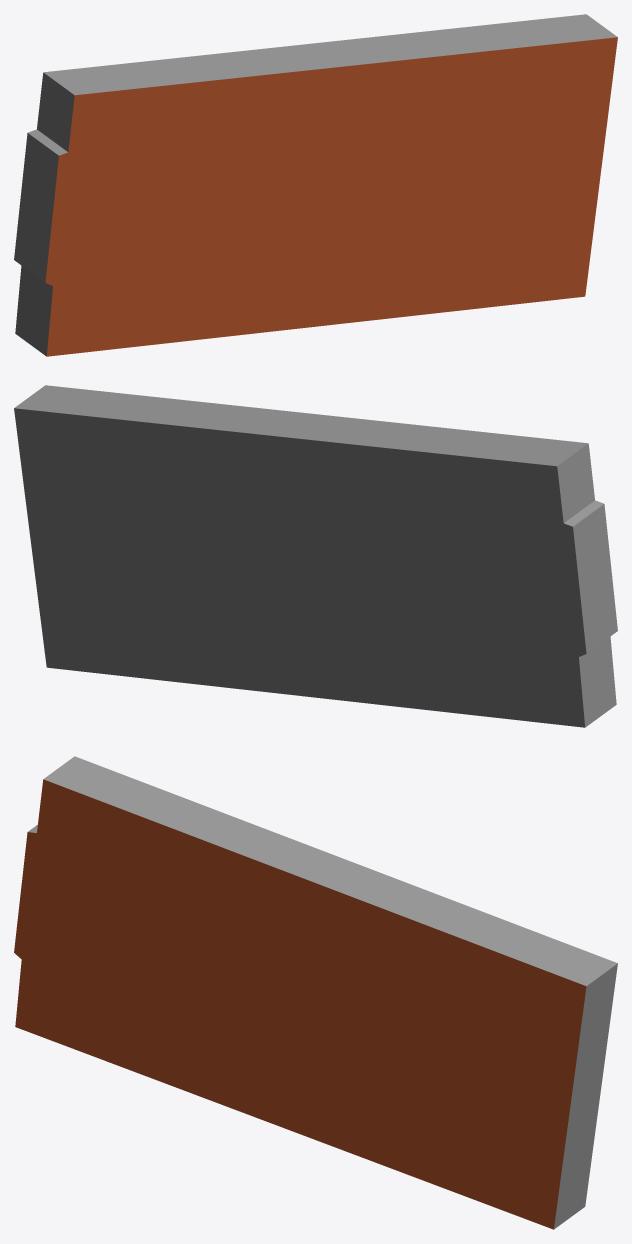
File: construction_3089_assumed_A_Casa_h6m.obj
3 renders of one model, top to bottom at view 1: azimuth 30°, elevation 25°; view 2: azimuth 150°, elevation 25°; view 3: azimuth 330°, elevation 25°, orthographic.
Parts seen in each view (by area): view 1: construction_3089_assumed_A_Casa; view 2: construction_3089_assumed_A_Casa; view 3: construction_3089_assumed_A_Casa.
Part boxes in pixels (box(x1,y1,x2,y2)): construction_3089_assumed_A_Casa: box(14, 14, 617, 356); construction_3089_assumed_A_Casa: box(14, 385, 617, 727); construction_3089_assumed_A_Casa: box(14, 756, 617, 1229).
Bounding box in the file's own units: 63.05 × 34.29 × 6.
